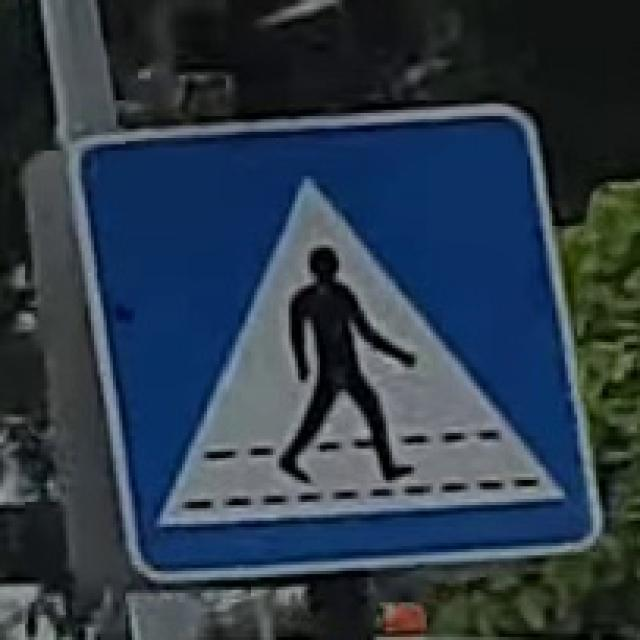zebracrossing_sign: (57, 97, 606, 584)
